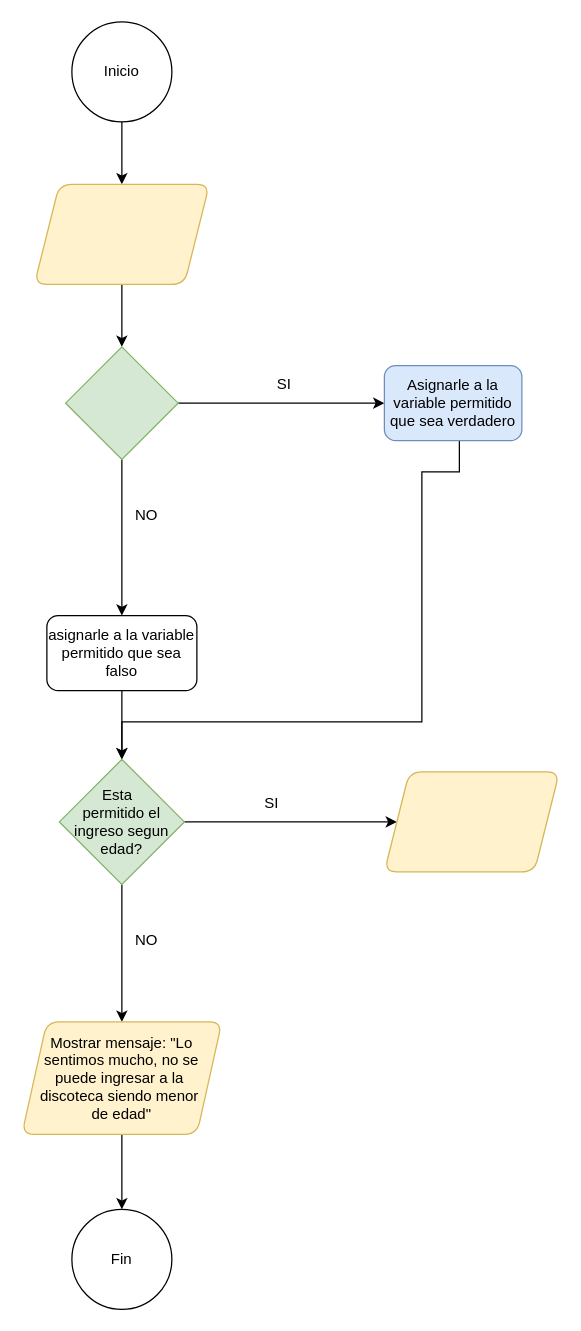
Image size: 581x1331. Some labels were removed from this diagram. Each missing label, with the centre of its shape:
Mostrar mensaje: "Por favor, ingrese la edad del cliente: ": [121,233]
Mostrar mensaje: "Puedes ingresar a la discoteca": [471,821]
Si edad >= 18: [121,402]
